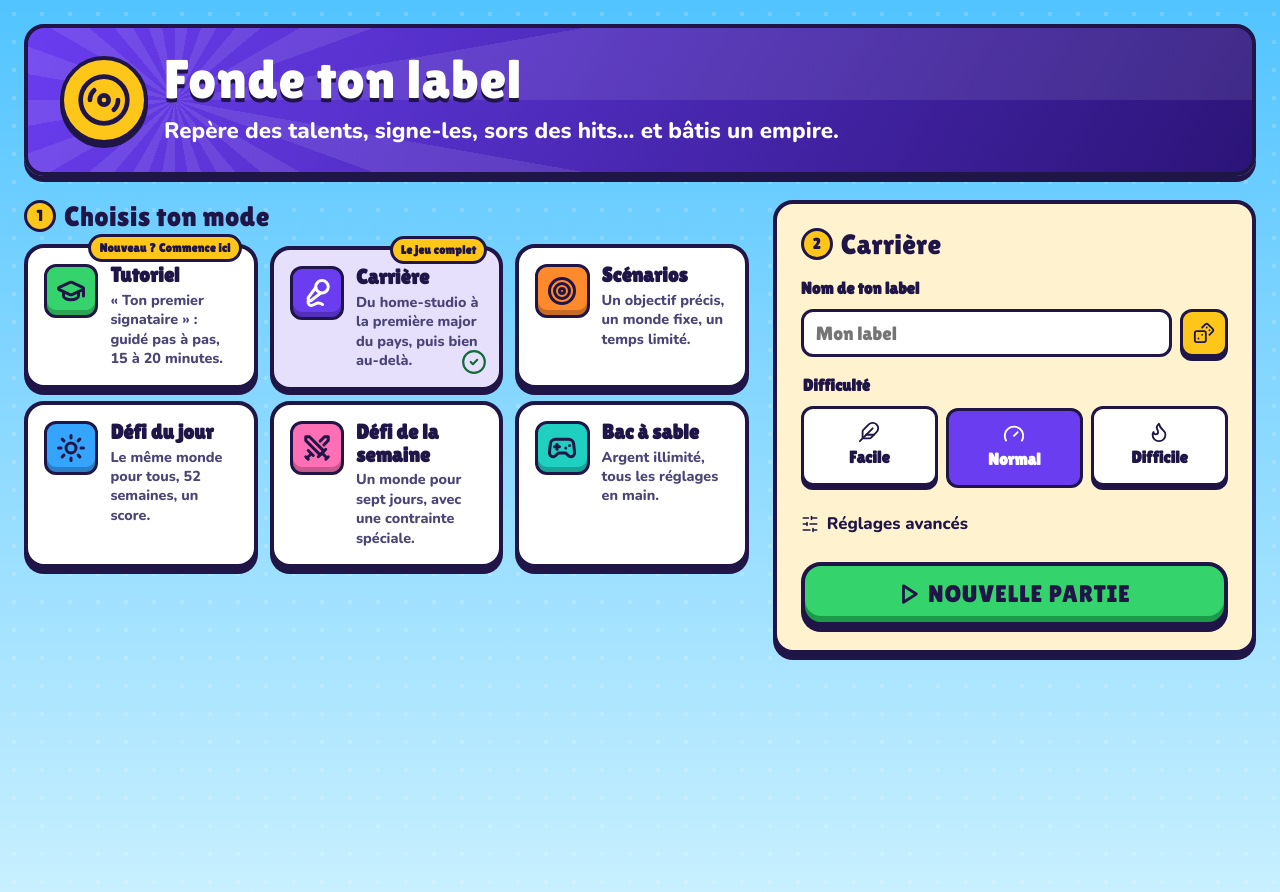
Test: écran Concurrence › liste les labels rivaux et leurs parts de marché
Step 1. Click the button "Nouvelle partie" → (1014, 594), box [801, 562, 1228, 626]
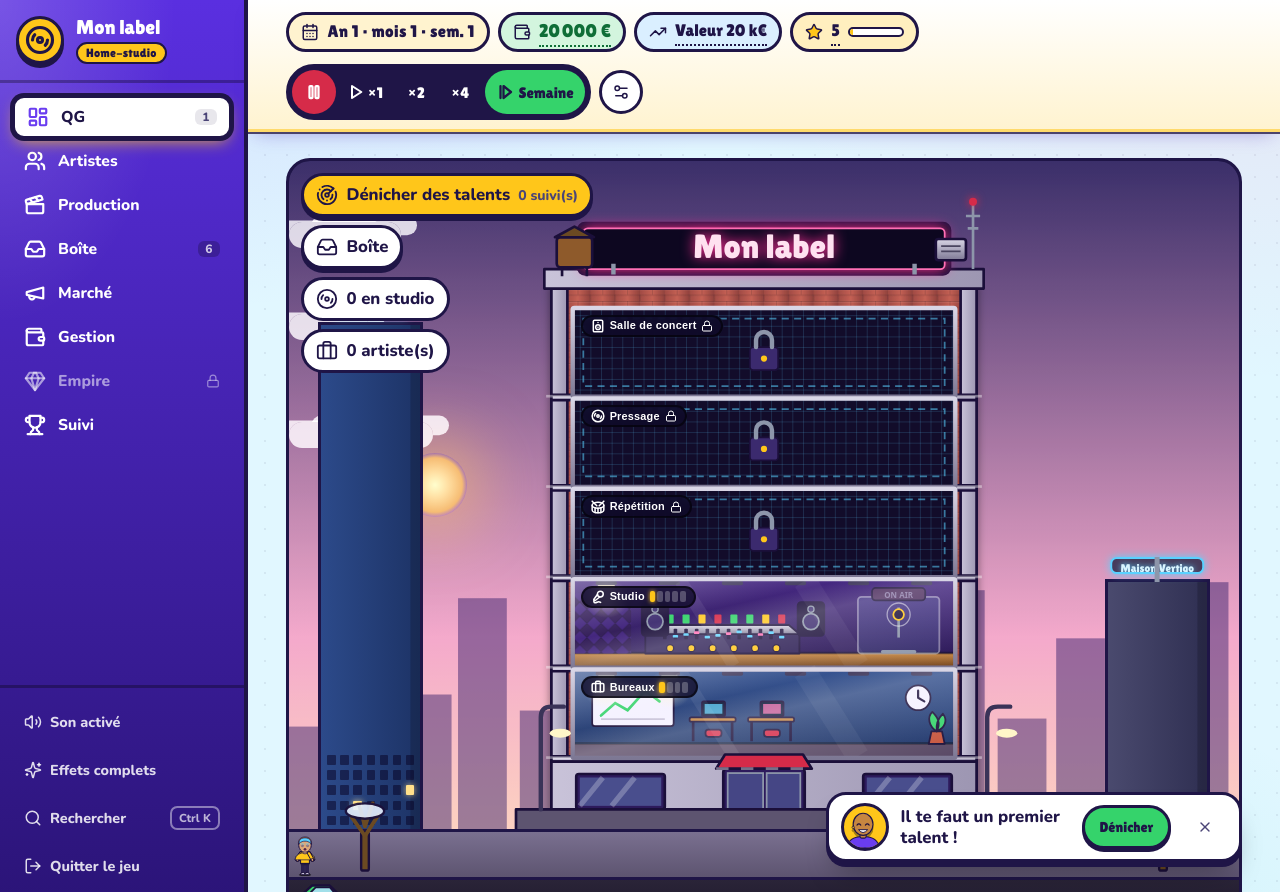
Step 2. Click the button "Marché" → (122, 293), box [12, 271, 232, 315]
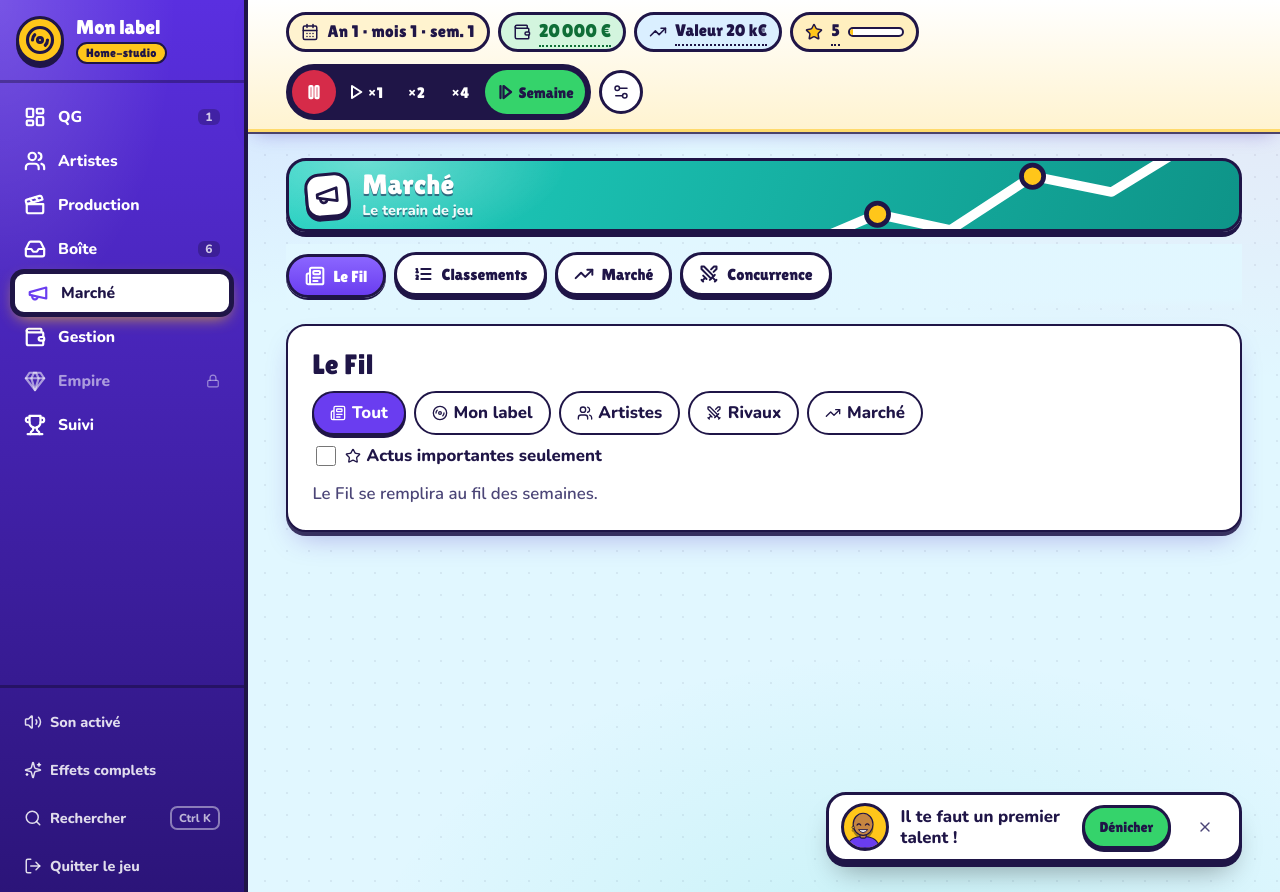
Step 3. Click the tab "Concurrence" → (756, 274), box [680, 252, 832, 296]
(page scrolled)
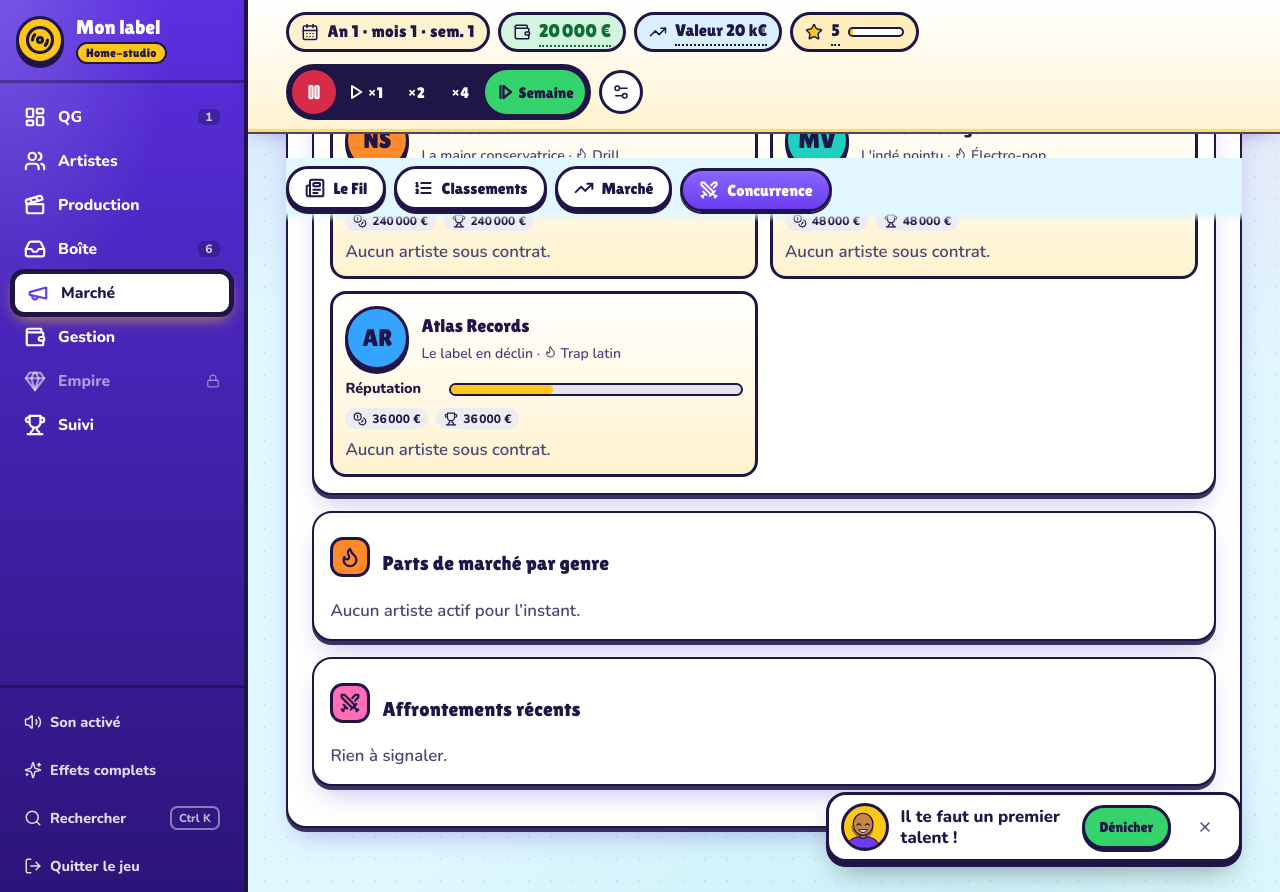
Check: the heading "Parts de marché par genre" is shown, box [382, 553, 609, 574]
Check: the heading "Affrontements récents" is shown, box [382, 699, 581, 719]
